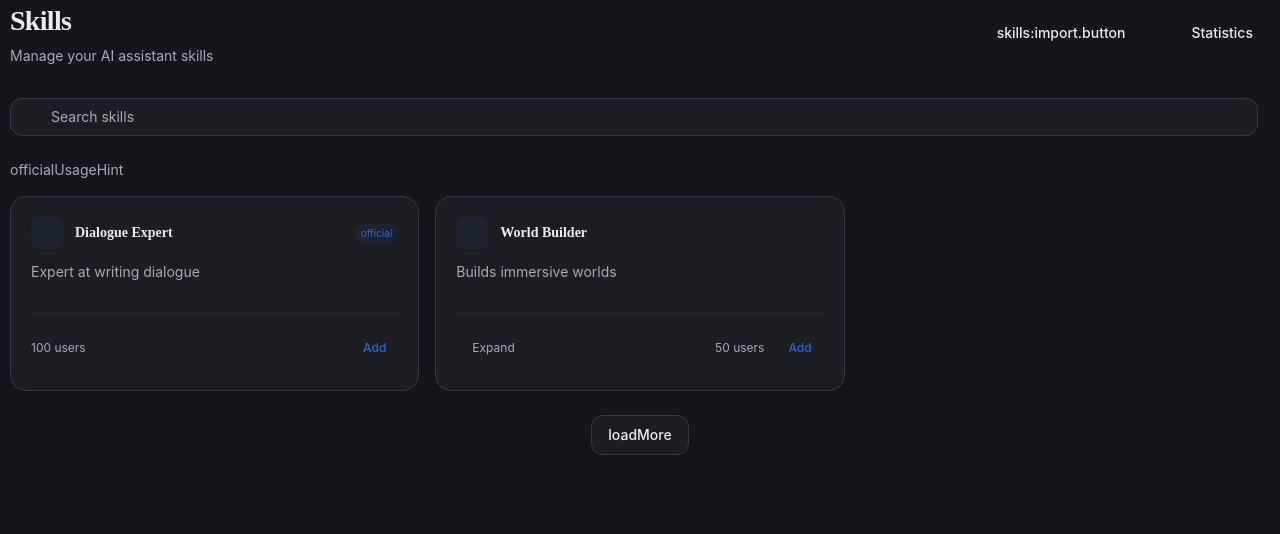
Test case: SkillsPage › Error Handling › preserves the search and existing skills when a discover refresh fails
Check: the heading "Dialogue Expert" is shown, box [75,225,173,240]
Check: the button "loadMore" is shown, box [591,415,689,455]
Type "dialogue" into the field with test id "public-skill-search".
click(634, 117); type("dialogue")  # box [10,98,1258,136]
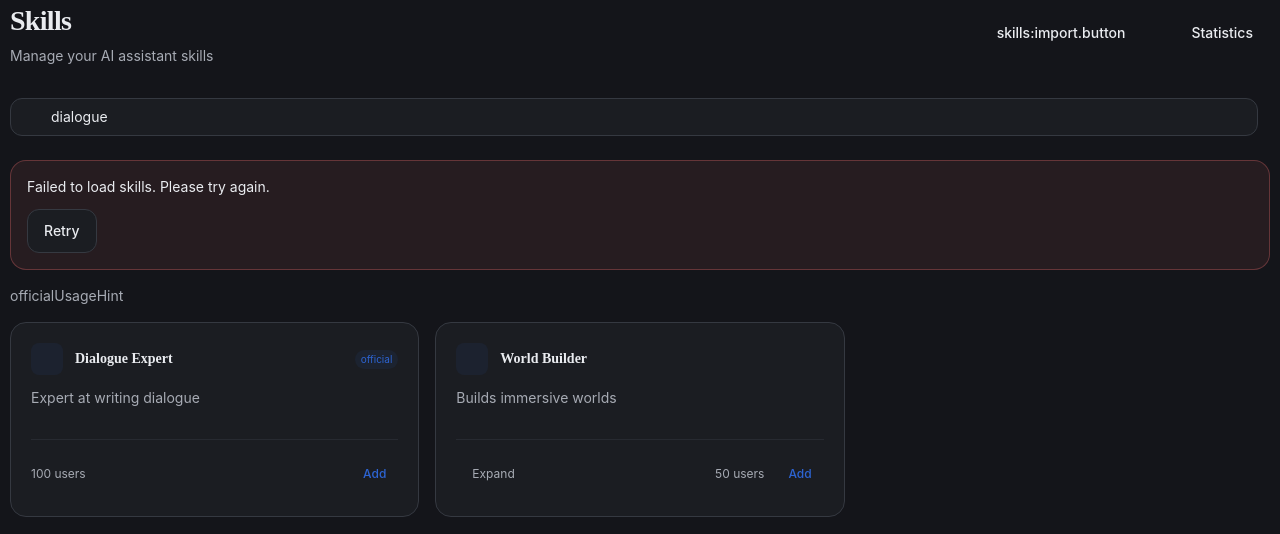
Check: the heading "Dialogue Expert" is shown, box [75,351,173,366]
Check: the button "loadMore" is gone
Click the button "Retry".
click(62, 231)  # box [27,209,97,253]
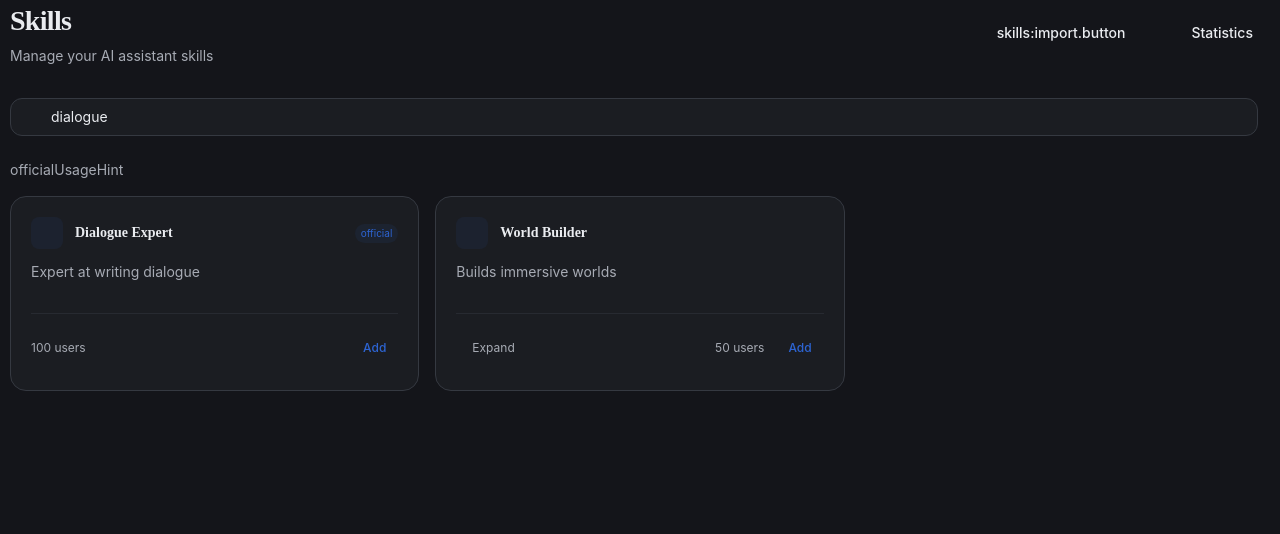
Check: the message "Failed to load skills. Please try again. Retry" is gone
